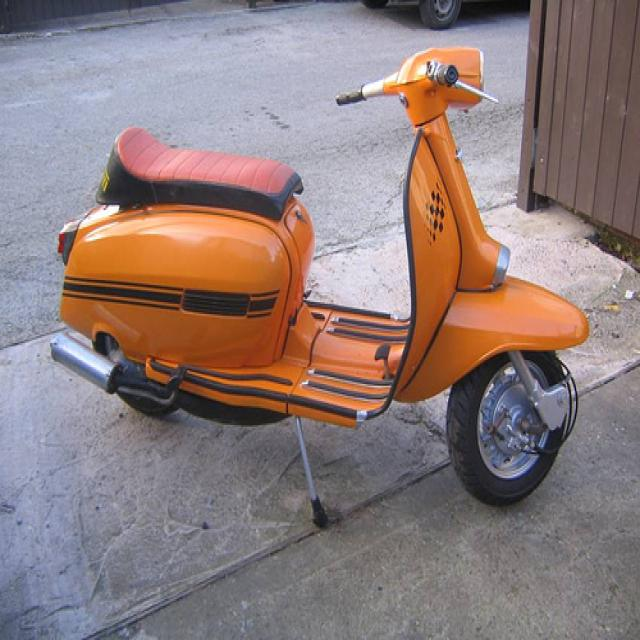motorbike: (52, 42, 599, 511)
